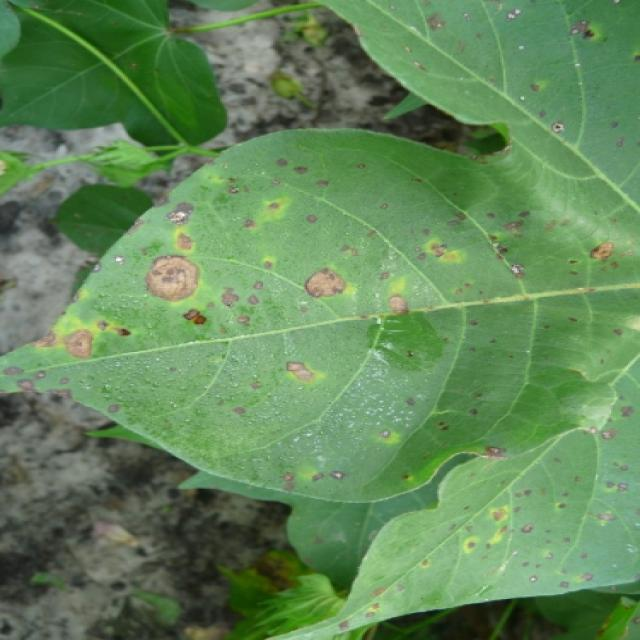Bacterial Blight: (134, 208, 458, 342)
